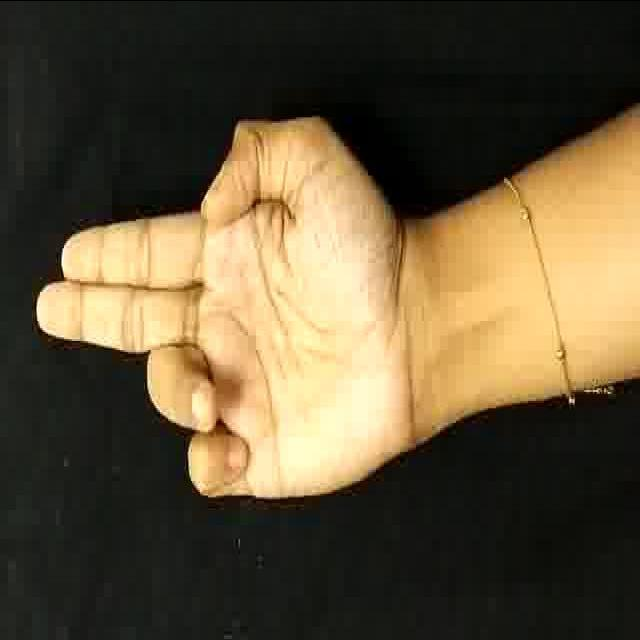ardhpataka: (26, 53, 424, 529)
